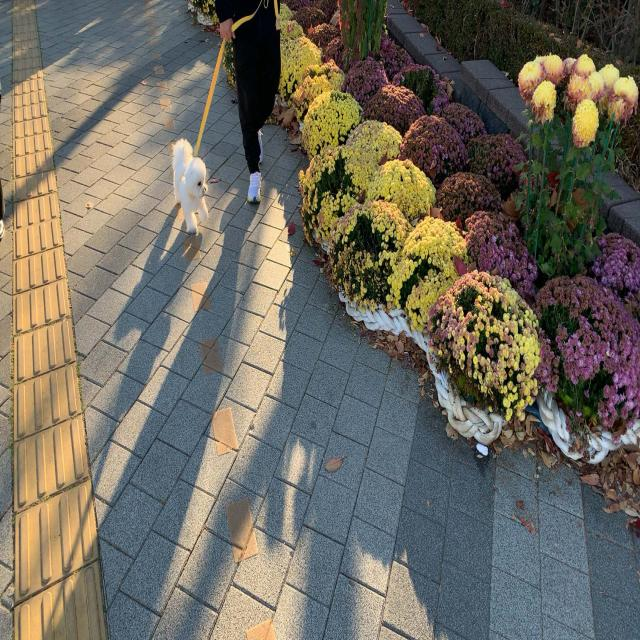Leashed_Dog: (172, 17, 254, 237)
